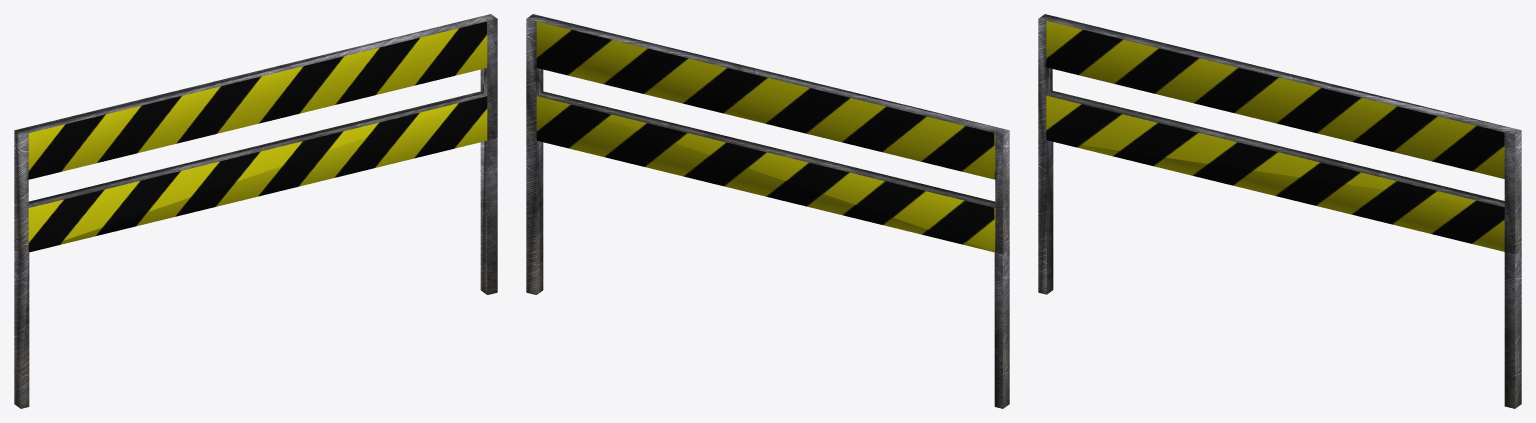
File: road_block.glb
The picture shows the model from 3 angles, left to right: view 1: azimuth 30°, elevation 25°; view 2: azimuth 150°, elevation 25°; view 3: azimuth 330°, elevation 25°; orthographic projection.
Parts seen in each view (by area): view 1: Object_2; view 2: Object_2; view 3: Object_2.
Part boxes in pixels (x1,y1,x2,y2): Object_2: (14, 14, 497, 408); Object_2: (526, 14, 1009, 408); Object_2: (1038, 14, 1521, 408).
Bounding box in the file's own units: 32.91 × 18.07 × 0.7874.
Materials: 1 (1 with a texture image).
